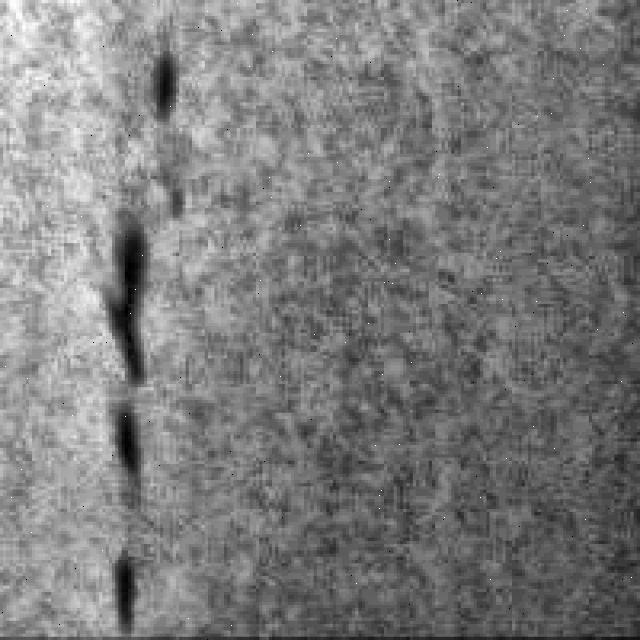Patches: (90, 218, 156, 384), (96, 394, 147, 481), (131, 45, 186, 122), (106, 544, 140, 630)
